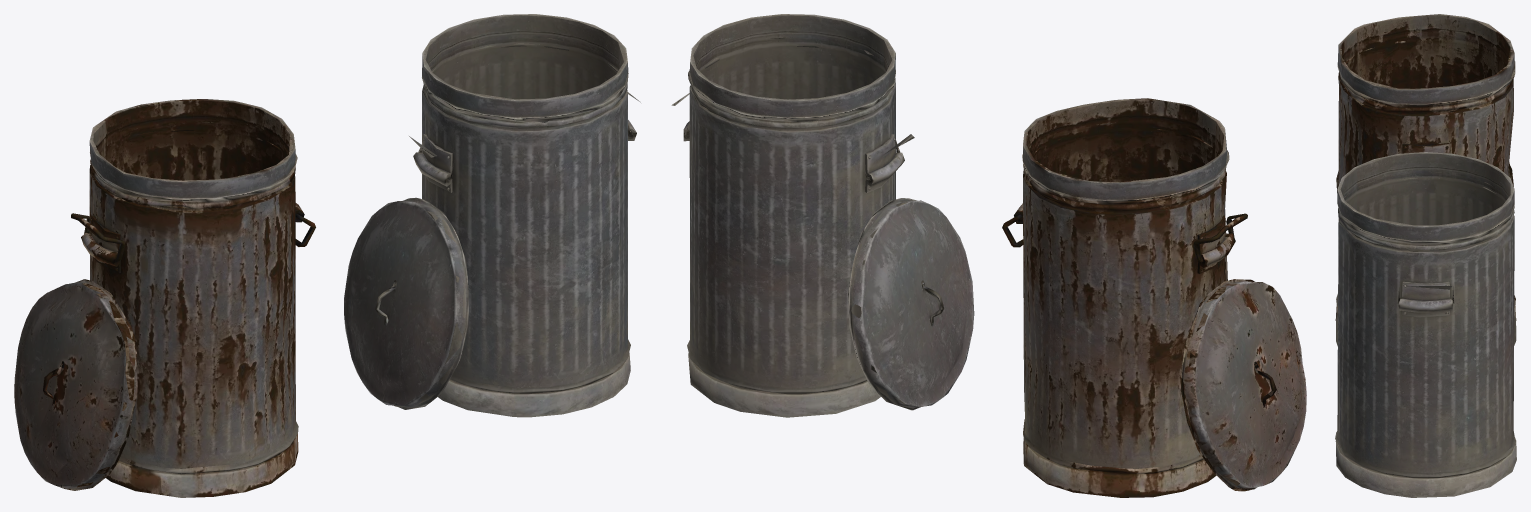
File: metal_trash_can.glb
3 views of the same model, side by side, from view 1: azimuth 30°, elevation 25°; view 2: azimuth 150°, elevation 25°; view 3: azimuth 270°, elevation 25° (orthographic). The views are drawn at different scales.
Visible parts, largest first — view 1: metal_trash_can, metal_trash_can_rust, metal_trash_can_lid, metal_trash_can_rust_lid; view 2: metal_trash_can, metal_trash_can_rust, metal_trash_can_lid, metal_trash_can_rust_lid; view 3: metal_trash_can, metal_trash_can_rust.
Boxes of the visible parts, bbox=[...] form: metal_trash_can: bbox=[413, 14, 636, 417]; metal_trash_can_rust: bbox=[81, 99, 304, 497]; metal_trash_can_lid: bbox=[344, 197, 468, 409]; metal_trash_can_rust_lid: bbox=[14, 279, 137, 490]; metal_trash_can: bbox=[683, 14, 904, 417]; metal_trash_can_rust: bbox=[1014, 98, 1235, 497]; metal_trash_can_lid: bbox=[847, 198, 974, 410]; metal_trash_can_rust_lid: bbox=[1180, 279, 1306, 491]; metal_trash_can: bbox=[1335, 152, 1516, 497]; metal_trash_can_rust: bbox=[1335, 14, 1516, 320].
Size of the model in its own units: 1.78 by 0.9062 by 0.5519.
2 materials, 2 textured.
